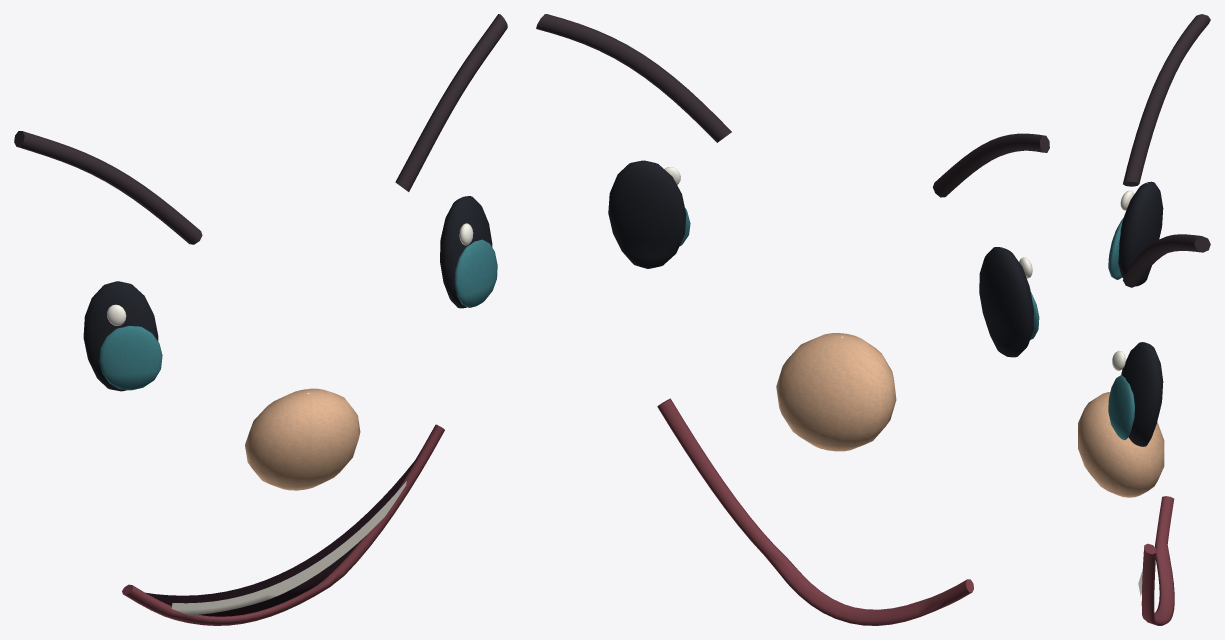
Rendered from face_imp_grin.gltf.
3 views of the same model, side by side, from view 1: azimuth 30°, elevation 25°; view 2: azimuth 150°, elevation 25°; view 3: azimuth 270°, elevation 25° (orthographic). The views are drawn at different scales.
Parts seen in each view (by area): view 1: Impish Grin; view 2: Impish Grin; view 3: Impish Grin.
Part boxes in pixels (left/top/right/bottom): Impish Grin: left=14, top=14, right=507, bottom=625; Impish Grin: left=536, top=14, right=1049, bottom=625; Impish Grin: left=1078, top=14, right=1210, bottom=625.
Bounding box in the file's own units: 0.2579 × 0.2668 × 0.0637.
Materials: 7 (7 with a texture image).
